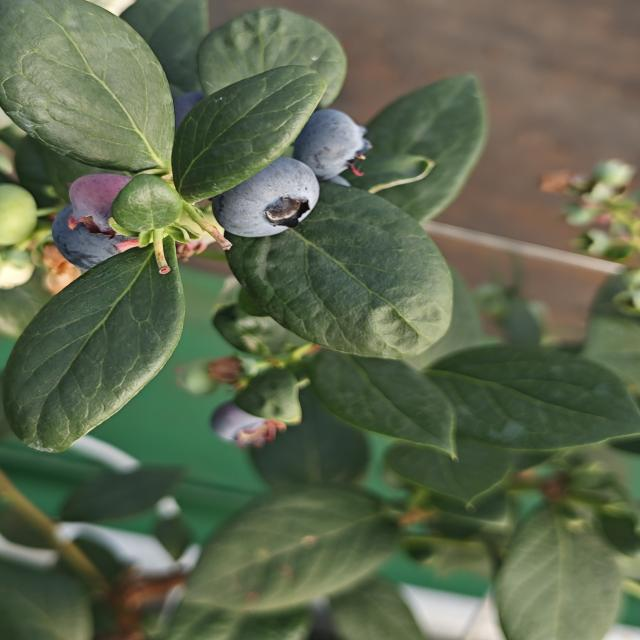ripe: (204, 156, 330, 242), (39, 197, 175, 276), (288, 96, 376, 182), (197, 393, 279, 449), (147, 80, 224, 134)
